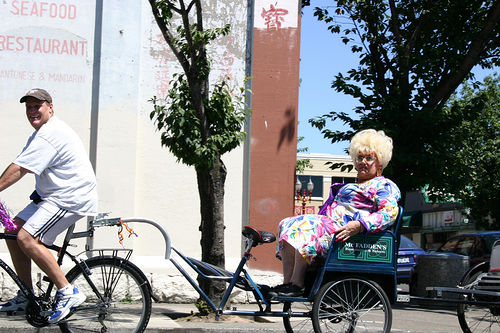without_mask: (350, 141, 384, 180), (20, 95, 55, 128)
